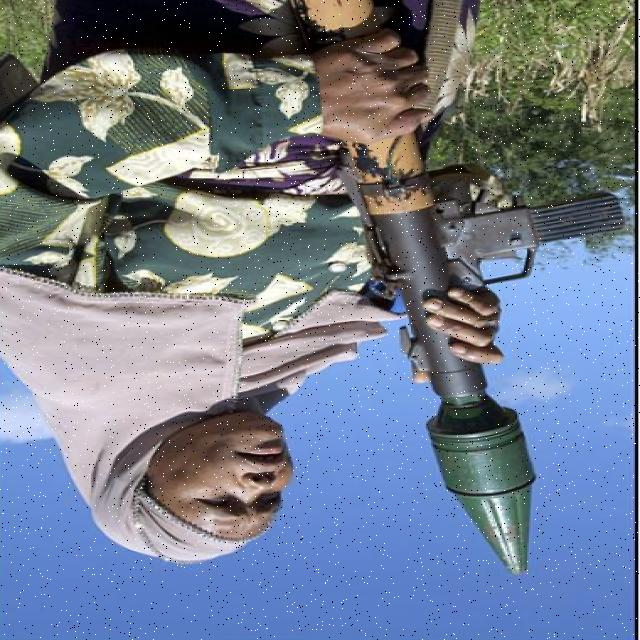bazooka: (290, 1, 541, 584)
